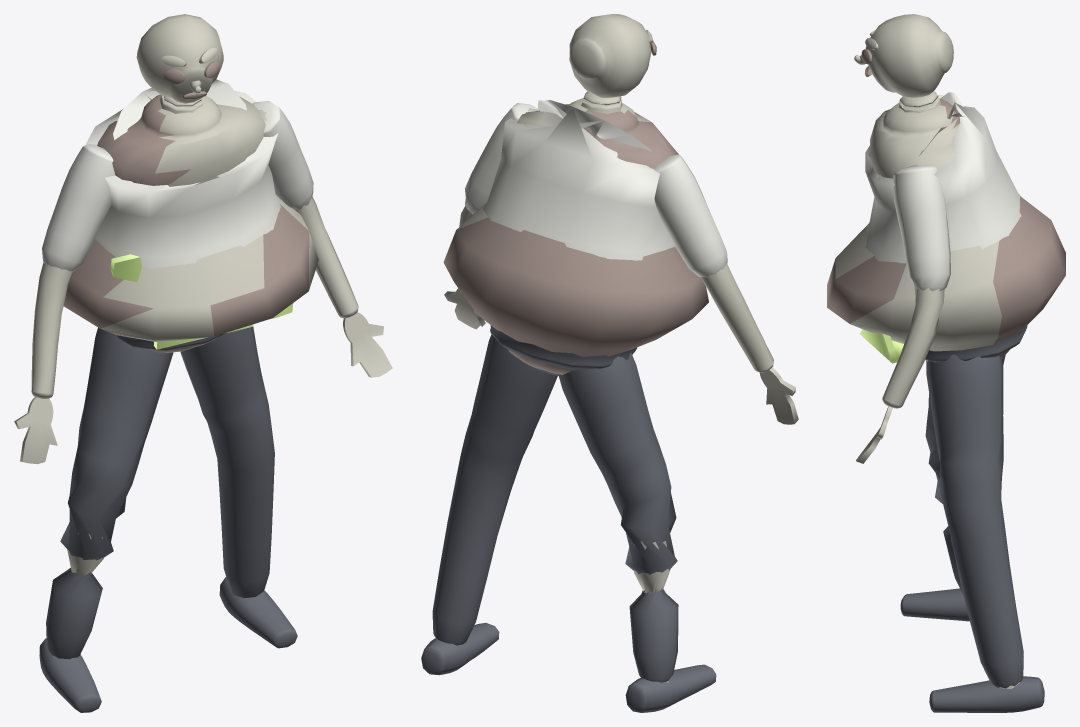
File: undead-horde-and-infected-variants-bloated-infected-07567fb3__12003.glb
3 renders of one model, left to right at view 1: azimuth 30°, elevation 25°; view 2: azimuth 150°, elevation 25°; view 3: azimuth 270°, elevation 25°, orthographic. The views are drawn at different scales.
Visible parts, largest first — view 1: bloated-infected; view 2: bloated-infected; view 3: bloated-infected.
Part boxes in pixels (x1,y1,x2,y2): bloated-infected: (14, 14, 392, 712); bloated-infected: (421, 14, 798, 712); bloated-infected: (827, 14, 1065, 712).
Size of the model in its own units: 0.9284 by 1.63 by 0.5483.
